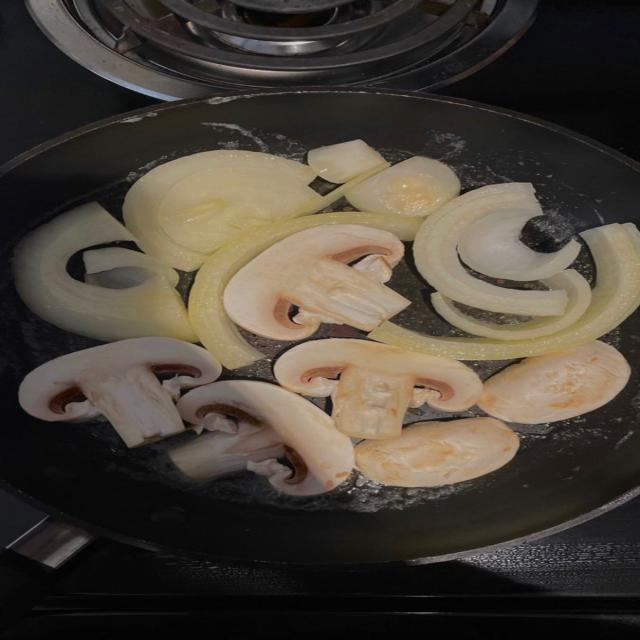champignon mushrooms: (14, 203, 197, 341), (19, 338, 221, 447), (224, 225, 409, 340), (275, 339, 481, 439), (178, 381, 354, 495), (478, 341, 630, 423), (356, 418, 519, 486), (168, 418, 286, 481)
